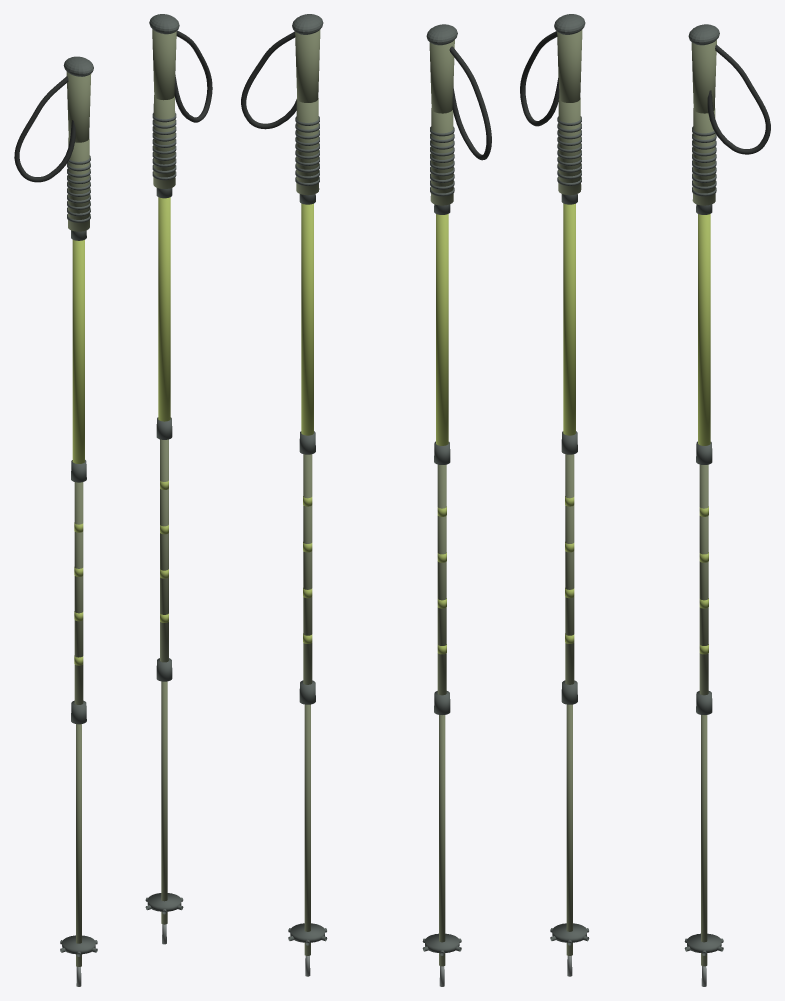
The model's file is hiking-poles-recreation-v51.glb.
3 renders of one model, left to right at view 1: azimuth 30°, elevation 25°; view 2: azimuth 150°, elevation 25°; view 3: azimuth 330°, elevation 25°, orthographic. The views are drawn at different scales.
Visible parts, largest first — view 1: Upper lime shaft.001, Upper lime shaft, Middle telescopic shaft, Middle telescopic shaft.001, Lower telescopic shaft.001, Ergonomic handle.001, Lower foam grip.001, Ergonomic handle, Lower foam grip, Lower telescopic shaft, Wrist strap, Wrist strap.001 (+4 smaller); view 2: Upper lime shaft.001, Upper lime shaft, Middle telescopic shaft, Middle telescopic shaft.001, Lower telescopic shaft.001, Lower telescopic shaft, Ergonomic handle.001, Ergonomic handle, Lower foam grip, Lower foam grip.001, Wrist strap, Wrist strap.001; view 3: Upper lime shaft, Upper lime shaft.001, Middle telescopic shaft.001, Middle telescopic shaft, Lower telescopic shaft, Lower telescopic shaft.001, Ergonomic handle, Lower foam grip, Ergonomic handle.001, Lower foam grip.001, Wrist strap.001, Wrist strap.
Boxes of the visible parts, box(x1,y1,x2,y2) form: Upper lime shaft.001: box(158, 197, 170, 421); Upper lime shaft: box(72, 240, 84, 463); Middle telescopic shaft: box(74, 482, 83, 704); Middle telescopic shaft.001: box(160, 439, 168, 662); Lower telescopic shaft.001: box(161, 681, 167, 924); Ergonomic handle.001: box(152, 29, 176, 100); Lower foam grip.001: box(153, 95, 175, 188); Ergonomic handle: box(66, 72, 91, 142); Lower foam grip: box(68, 138, 89, 231); Lower telescopic shaft: box(76, 724, 81, 966); Wrist strap: box(14, 76, 75, 182); Wrist strap.001: box(174, 30, 212, 122); Upper lime shaft.001: box(301, 203, 313, 435); Upper lime shaft: box(436, 214, 448, 445); Middle telescopic shaft: box(437, 464, 446, 695); Middle telescopic shaft.001: box(303, 454, 312, 684); Lower telescopic shaft.001: box(304, 704, 310, 955); Lower telescopic shaft: box(439, 715, 445, 966); Ergonomic handle.001: box(295, 30, 320, 102); Ergonomic handle: box(429, 40, 454, 113); Lower foam grip: box(430, 108, 453, 205); Lower foam grip.001: box(296, 98, 319, 195); Wrist strap: box(449, 46, 491, 160); Wrist strap.001: box(241, 31, 296, 129); Upper lime shaft: box(563, 203, 575, 435); Upper lime shaft.001: box(698, 214, 710, 445); Middle telescopic shaft.001: box(699, 464, 708, 695); Middle telescopic shaft: box(565, 454, 574, 684); Lower telescopic shaft: box(566, 704, 572, 955); Lower telescopic shaft.001: box(701, 715, 707, 966); Ergonomic handle: box(557, 30, 582, 102); Lower foam grip: box(558, 98, 581, 195); Ergonomic handle.001: box(691, 40, 716, 113); Lower foam grip.001: box(692, 108, 715, 205); Wrist strap.001: box(707, 44, 770, 154); Wrist strap: box(520, 31, 559, 126).
Size of the model in its own units: 0.2852 by 1.15 by 0.0927.
